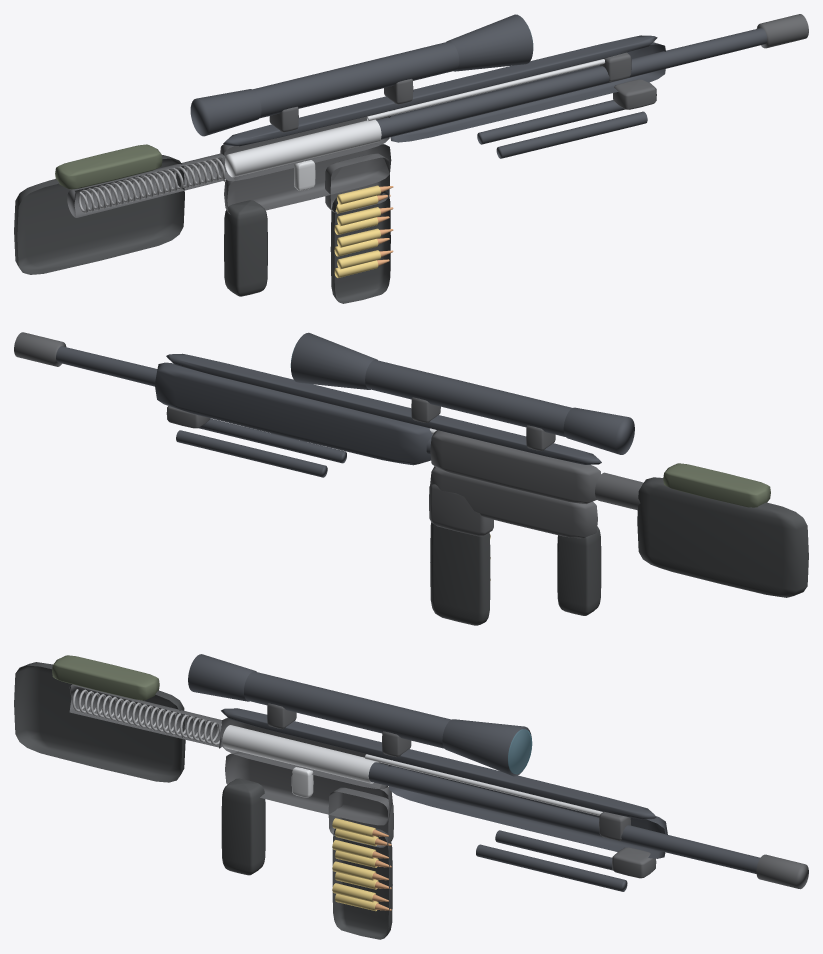
Rendered from uar10-cut.glb.
The picture shows the model from 3 angles, top to bottom: view 1: azimuth 30°, elevation 25°; view 2: azimuth 150°, elevation 25°; view 3: azimuth 330°, elevation 25°; orthographic projection.
Visible parts, largest first — view 1: dmr_stock, barrel_508mm, top_rail, scope_tube, lower_receiver, pistol_grip, bcg_ar10, handguard_dmr, scope_obj, mag_20rd, cheek_riser, buffer_spring (+13 smaller); view 2: dmr_stock, handguard_dmr, upper_receiver, top_rail, scope_tube, mag_20rd, lower_receiver, pistol_grip, scope_obj, cheek_riser, scope_eye, magwell (+8 smaller); view 3: dmr_stock, barrel_508mm, top_rail, scope_tube, lower_receiver, pistol_grip, handguard_dmr, bcg_ar10, scope_obj, mag_20rd, cheek_riser, buffer_spring (+14 smaller).
Part boxes in pixels (x1,y1,x2,y2): dmr_stock: (14, 155, 184, 274); barrel_508mm: (376, 28, 766, 139); top_rail: (223, 35, 657, 146); scope_tube: (252, 41, 459, 118); lower_receiver: (224, 143, 391, 214); pistol_grip: (224, 200, 267, 296); bcg_ar10: (225, 119, 381, 177); handguard_dmr: (390, 42, 665, 142); scope_obj: (446, 14, 533, 71); mag_20rd: (330, 190, 390, 303); cheek_riser: (55, 144, 162, 189); buffer_spring: (78, 157, 225, 213); dmr_stock: (637, 477, 808, 597); handguard_dmr: (155, 362, 432, 465); upper_receiver: (430, 430, 601, 503); top_rail: (166, 353, 601, 464); scope_tube: (365, 360, 572, 436); mag_20rd: (430, 522, 490, 625); lower_receiver: (430, 466, 597, 538); pistol_grip: (557, 526, 601, 615); scope_obj: (291, 332, 377, 389); cheek_riser: (663, 463, 770, 507); scope_eye: (563, 407, 634, 454); magwell: (429, 484, 493, 536); dmr_stock: (14, 662, 185, 782); barrel_508mm: (368, 762, 760, 873); top_rail: (221, 708, 656, 819); scope_tube: (244, 671, 451, 748); lower_receiver: (225, 751, 392, 825); pistol_grip: (221, 778, 265, 875); handguard_dmr: (388, 764, 667, 858); bcg_ar10: (222, 725, 378, 783); scope_obj: (442, 719, 531, 776); mag_20rd: (332, 828, 392, 939); cheek_riser: (52, 655, 159, 700); buffer_spring: (72, 689, 221, 745).
Size of the model in its own units: 1.03 by 0.3075 by 0.058.
